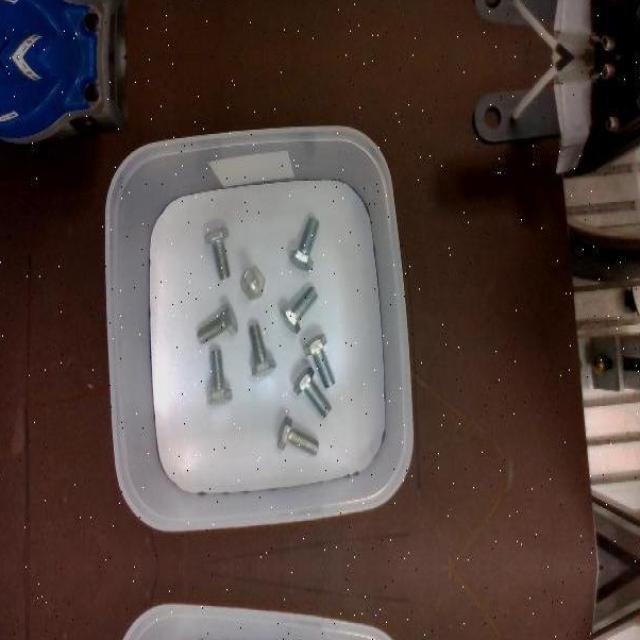screw: (293, 366, 332, 418), (281, 284, 319, 333), (289, 216, 321, 271), (197, 300, 238, 342), (277, 414, 320, 454), (303, 333, 335, 386), (248, 322, 276, 376), (207, 349, 233, 406), (204, 227, 231, 279), (240, 266, 265, 297)
